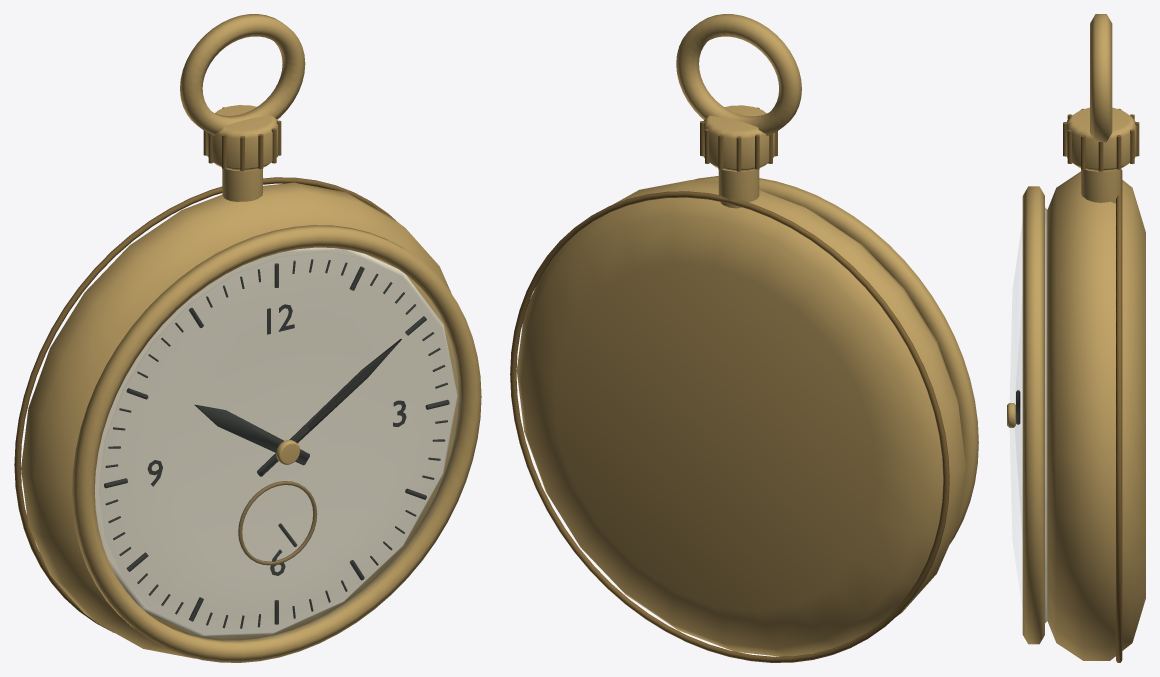
File: P013_pocket_watch_rebuilt.glb
The picture shows the model from 3 angles, left to right: view 1: azimuth 30°, elevation 25°; view 2: azimuth 150°, elevation 25°; view 3: azimuth 270°, elevation 25°; orthographic projection. The views are drawn at different scales.
Visible parts, largest first — view 1: Watch_warm_enamel_dial, Watch_polished_yellow_brass, Watch_charcoal_hands_and_numerals, Watch_dark_brass_casing_groove; view 2: Watch_polished_yellow_brass, Watch_dark_brass_casing_groove; view 3: Watch_polished_yellow_brass, Watch_dark_brass_casing_groove, Watch_warm_enamel_dial, Watch_thin_front_glass.
Boxes of the visible parts, bbox=[...] form: Watch_warm_enamel_dial: bbox=[94, 247, 457, 637]; Watch_polished_yellow_brass: bbox=[21, 14, 481, 662]; Watch_charcoal_hands_and_numerals: bbox=[104, 259, 449, 628]; Watch_dark_brass_casing_groove: bbox=[14, 107, 396, 632]; Watch_polished_yellow_brass: bbox=[516, 14, 978, 656]; Watch_dark_brass_casing_groove: bbox=[510, 107, 949, 662]; Watch_polished_yellow_brass: bbox=[1007, 14, 1145, 660]; Watch_dark_brass_casing_groove: bbox=[1063, 108, 1139, 662]; Watch_warm_enamel_dial: bbox=[1045, 207, 1047, 622]; Watch_thin_front_glass: bbox=[1014, 295, 1022, 535].
Bounding box in the file's own units: 0.1106 × 0.1525 × 0.031.
